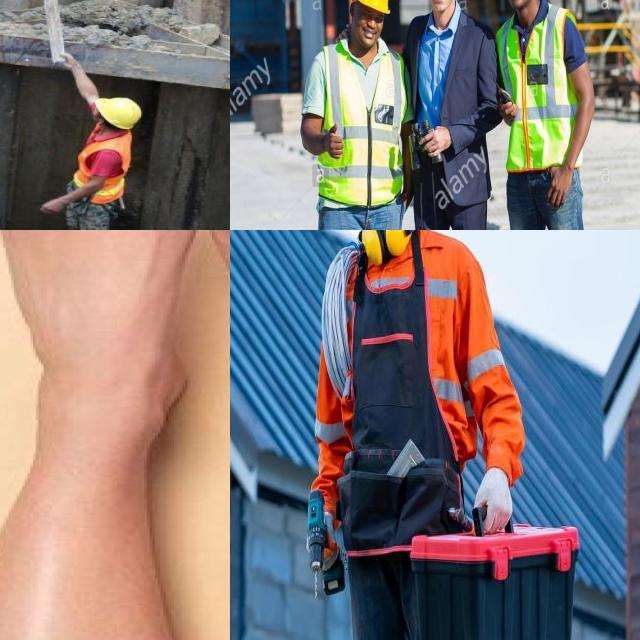Barefoots: (1, 230, 230, 428)
Ear-protection: (348, 230, 434, 260)
face_nomask: (354, 8, 384, 56), (428, 0, 458, 17), (500, 0, 533, 12)
hand_glove: (469, 459, 515, 534), (306, 507, 340, 561)
hand_noglove: (424, 121, 452, 162), (550, 162, 575, 207), (47, 53, 86, 79), (326, 122, 348, 161), (33, 198, 64, 219)
head_helmet: (98, 97, 144, 134), (350, 0, 390, 13)
person: (297, 230, 584, 640), (300, 0, 405, 230), (491, 0, 591, 230), (404, 0, 494, 230), (58, 54, 157, 230)
vest: (330, 230, 482, 479), (499, 6, 580, 169), (324, 41, 402, 199), (66, 129, 144, 203)
